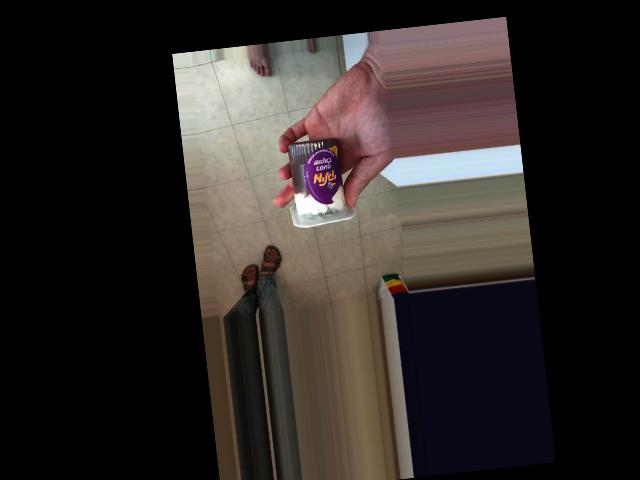milky: (283, 134, 347, 217)
